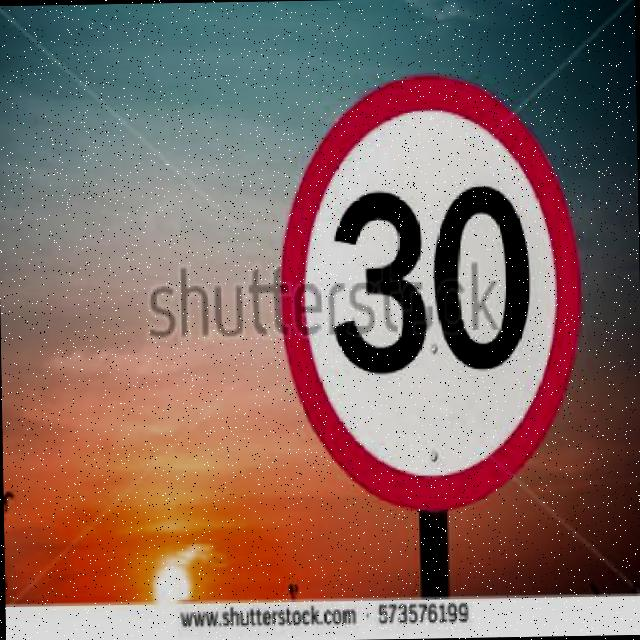Ograniczenie predkosci do 30: (290, 86, 572, 498)
